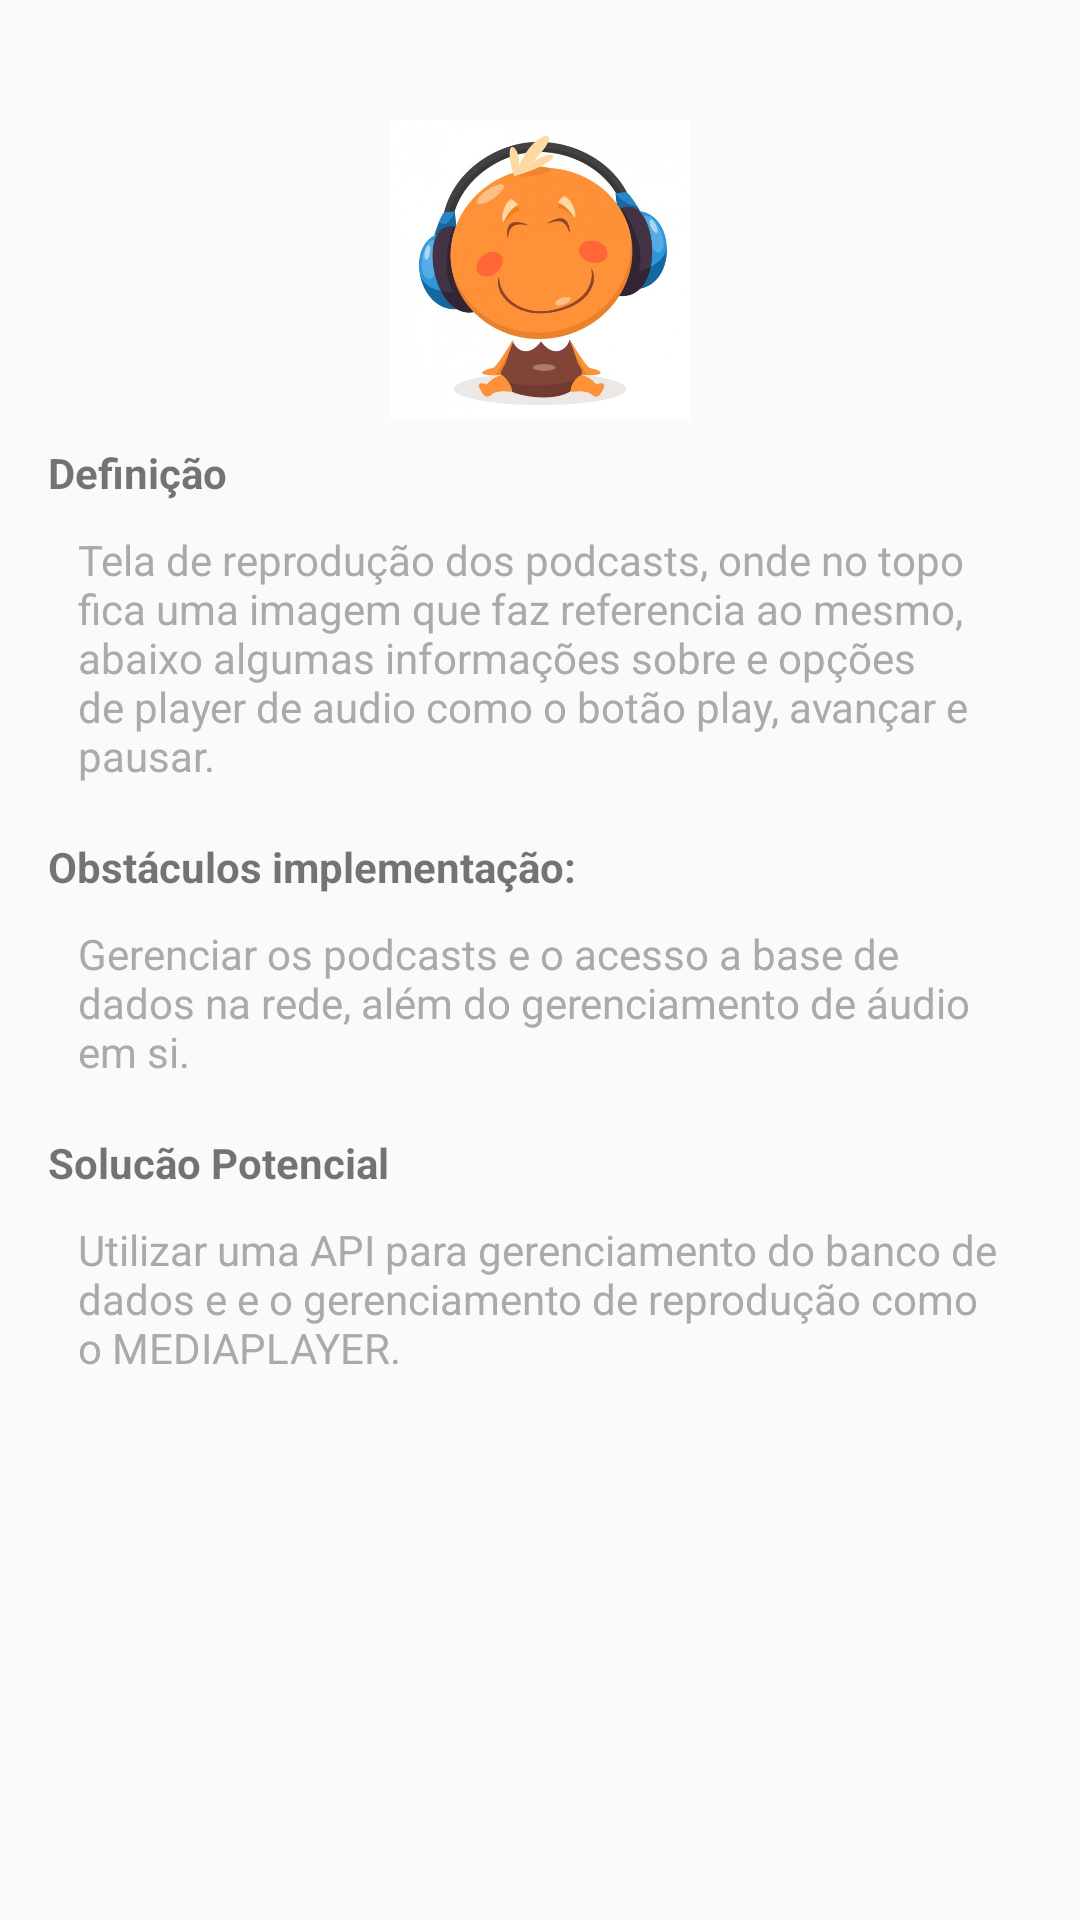

Screen size 1080w x 1920h. Icon name, then its box in pixels as (x1, y1, x2, y2):
Imagem de ilustração do podcast: (419, 136, 667, 403)
